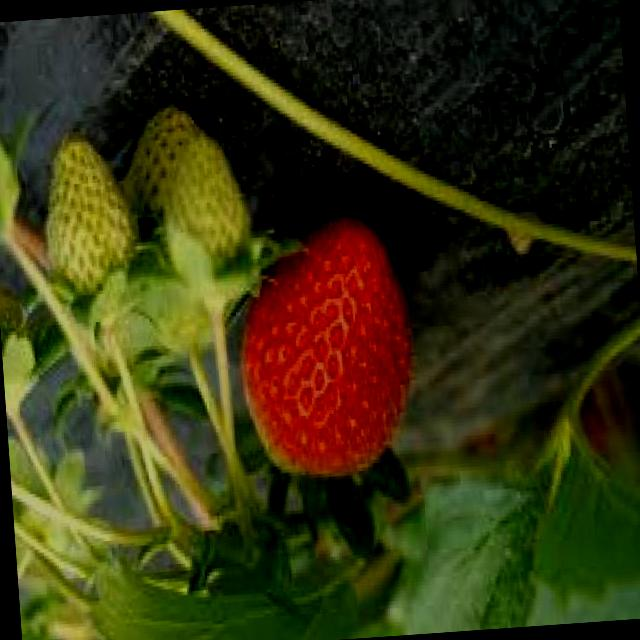Strawberry: (230, 209, 422, 481), (116, 104, 247, 275), (39, 135, 142, 301)
